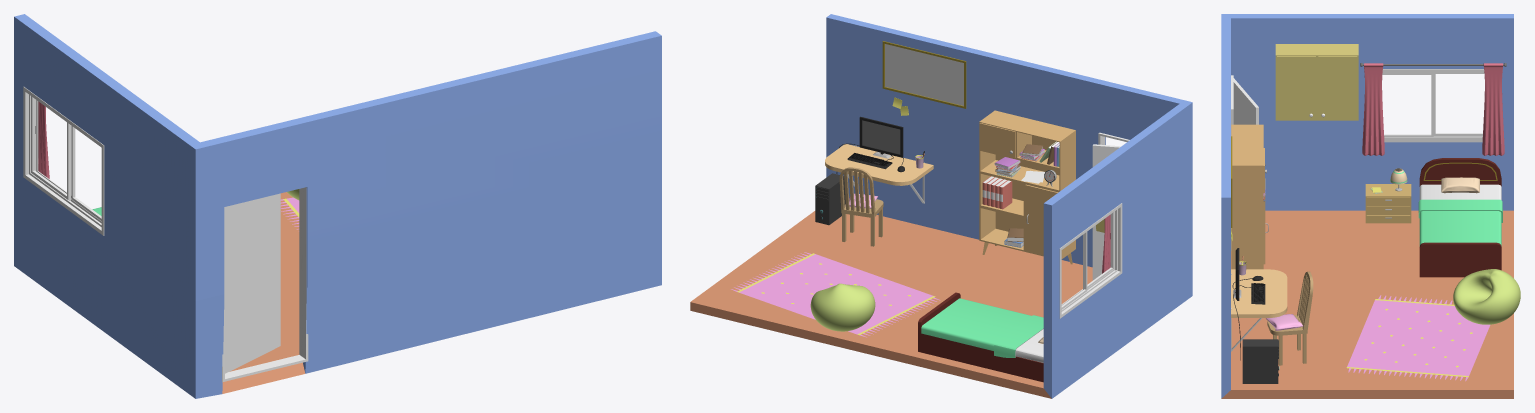
The model's file is room.glb.
3 views of the same model, side by side, from view 1: azimuth 30°, elevation 25°; view 2: azimuth 150°, elevation 25°; view 3: azimuth 270°, elevation 25° (orthographic). The views are drawn at different scales.
Parts seen in each view (by area): view 1: Walls, Door, Window, DoorFrame, Curtains; view 2: Walls, Bookshelf, Bed, Carpet, PhotoFrame, BeanBagChair, Window, Table, Chair, Monitor, CPU, Door; view 3: Walls, Carpet, Bed, HangingCupboard, Bookshelf, Curtains, BeanBagChair, Table, TableBesideBed, Window, CPU, Chair (+5 smaller).
Part boxes in pixels (left/top/right/bottom): Walls: left=14, top=14, right=661, bottom=398; Door: left=225, top=193, right=280, bottom=373; Window: left=23, top=86, right=104, bottom=235; DoorFrame: left=222, top=187, right=308, bottom=381; Curtains: left=38, top=101, right=49, bottom=178; Walls: left=690, top=14, right=1192, bottom=398; Bookshelf: left=979, top=110, right=1075, bottom=264; Bed: left=918, top=292, right=1043, bottom=382; Carpet: left=731, top=251, right=942, bottom=337; PhotoFrame: left=882, top=41, right=966, bottom=108; BeanBagChair: left=810, top=283, right=875, bottom=331; Window: left=1059, top=203, right=1122, bottom=318; Table: left=825, top=144, right=933, bottom=203; Chair: left=839, top=167, right=883, bottom=246; Monitor: left=859, top=116, right=903, bottom=158; CPU: left=815, top=173, right=845, bottom=225; Door: left=1092, top=144, right=1120, bottom=280; Walls: left=1221, top=14, right=1513, bottom=398; Carpet: left=1345, top=295, right=1490, bottom=381; Bed: left=1418, top=158, right=1502, bottom=277; HangingCupboard: left=1275, top=44, right=1358, bottom=120; Bookshelf: left=1231, top=124, right=1268, bottom=269; Curtains: left=1362, top=63, right=1504, bottom=155; BeanBagChair: left=1453, top=269, right=1520, bottom=324; Table: left=1231, top=269, right=1287, bottom=351; TableBesideBed: left=1365, top=184, right=1411, bottom=223; Window: left=1382, top=69, right=1484, bottom=142; CPU: left=1242, top=339, right=1279, bottom=383; Chair: left=1267, top=271, right=1313, bottom=365.
Size of the model in its own units: 307 by 159 by 212.
